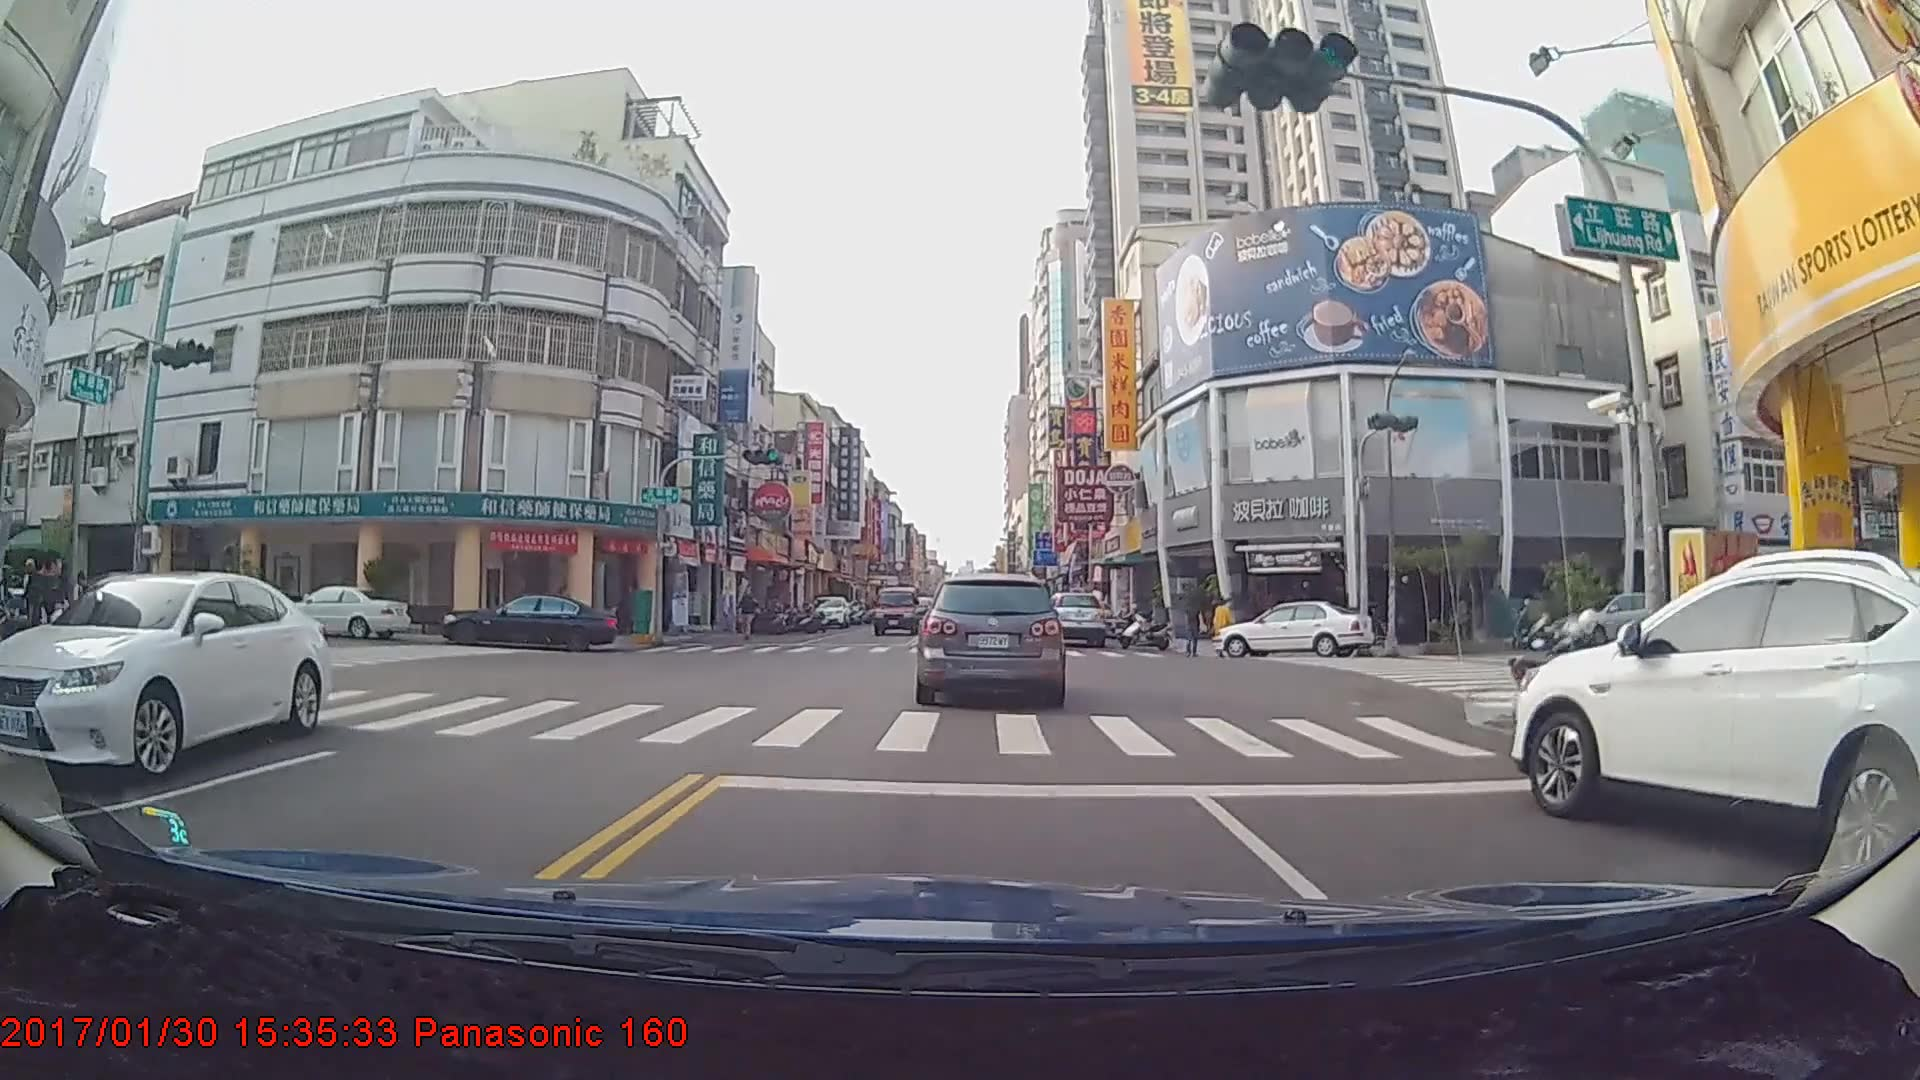pedestrian: (25, 546, 71, 691), (1182, 592, 1206, 659), (739, 588, 761, 640), (1214, 596, 1234, 650)
vehicle: (1514, 547, 1920, 893), (6, 567, 324, 785), (915, 570, 1066, 706), (437, 580, 617, 639), (1214, 598, 1372, 660), (264, 579, 410, 637), (1037, 585, 1106, 645), (871, 581, 919, 632), (804, 592, 849, 628)
